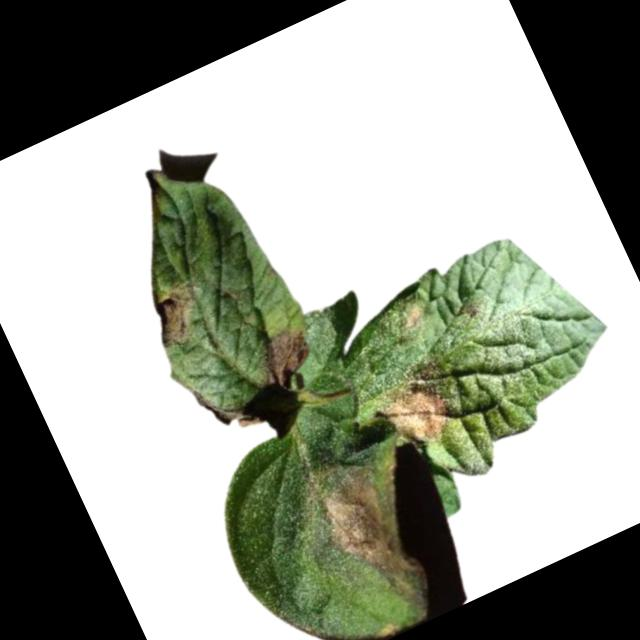Late_blight: (305, 460, 416, 598), (370, 366, 460, 458), (142, 278, 211, 352), (191, 372, 258, 444), (251, 325, 319, 394), (398, 300, 432, 333)
